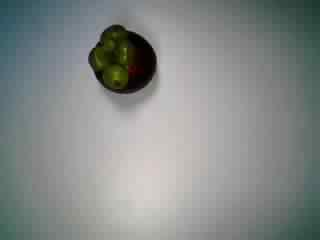mangosteen: (80, 23, 158, 95)
